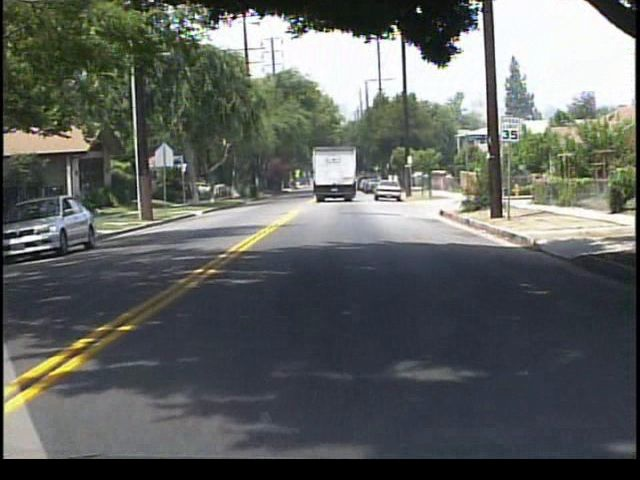person: (444, 170, 454, 192)
